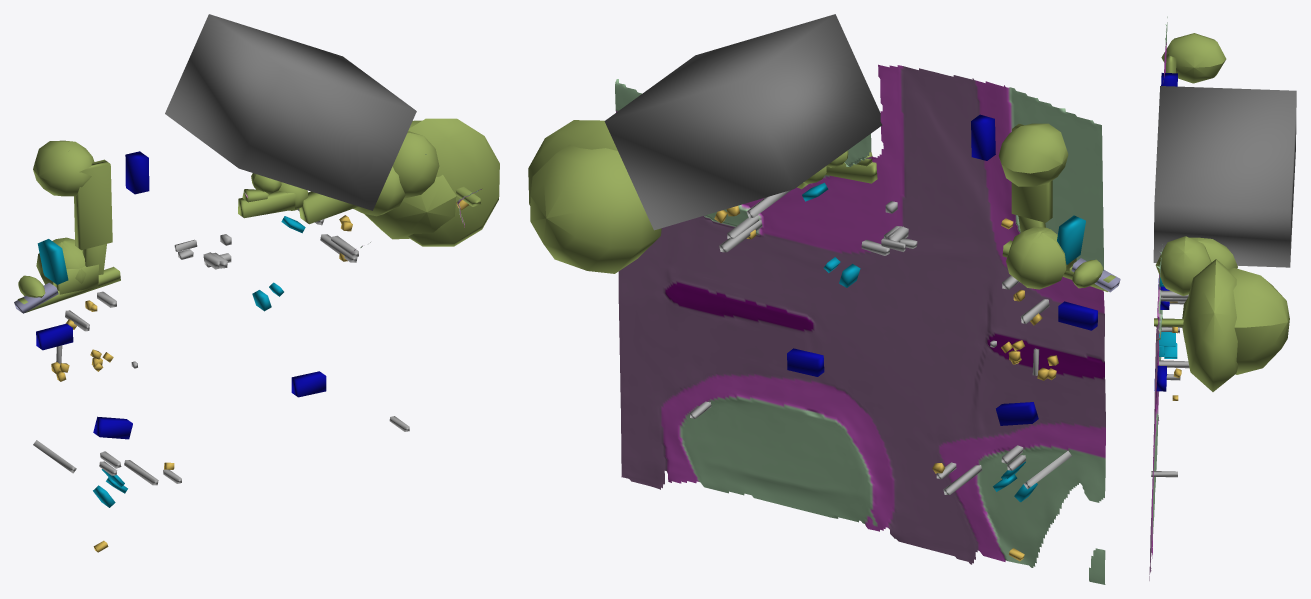
Rendered from generated_low_0.glb.
3 views of the same model, side by side, from view 1: azimuth 30°, elevation 25°; view 2: azimuth 150°, elevation 25°; view 3: azimuth 270°, elevation 25° (orthographic). The views are drawn at different scales.
Size of the model in its own units: 72.49 by 64.89 by 20.88.
